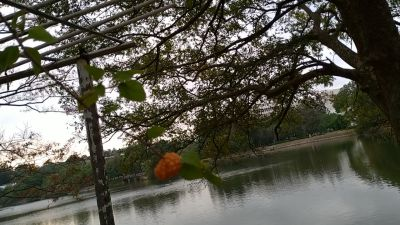eggs: (154, 152, 182, 180)
